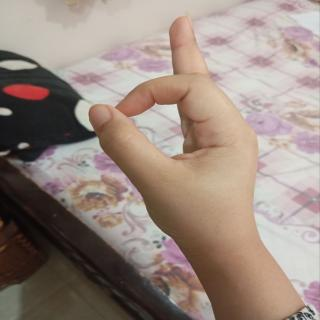Space: (67, 7, 282, 254)
